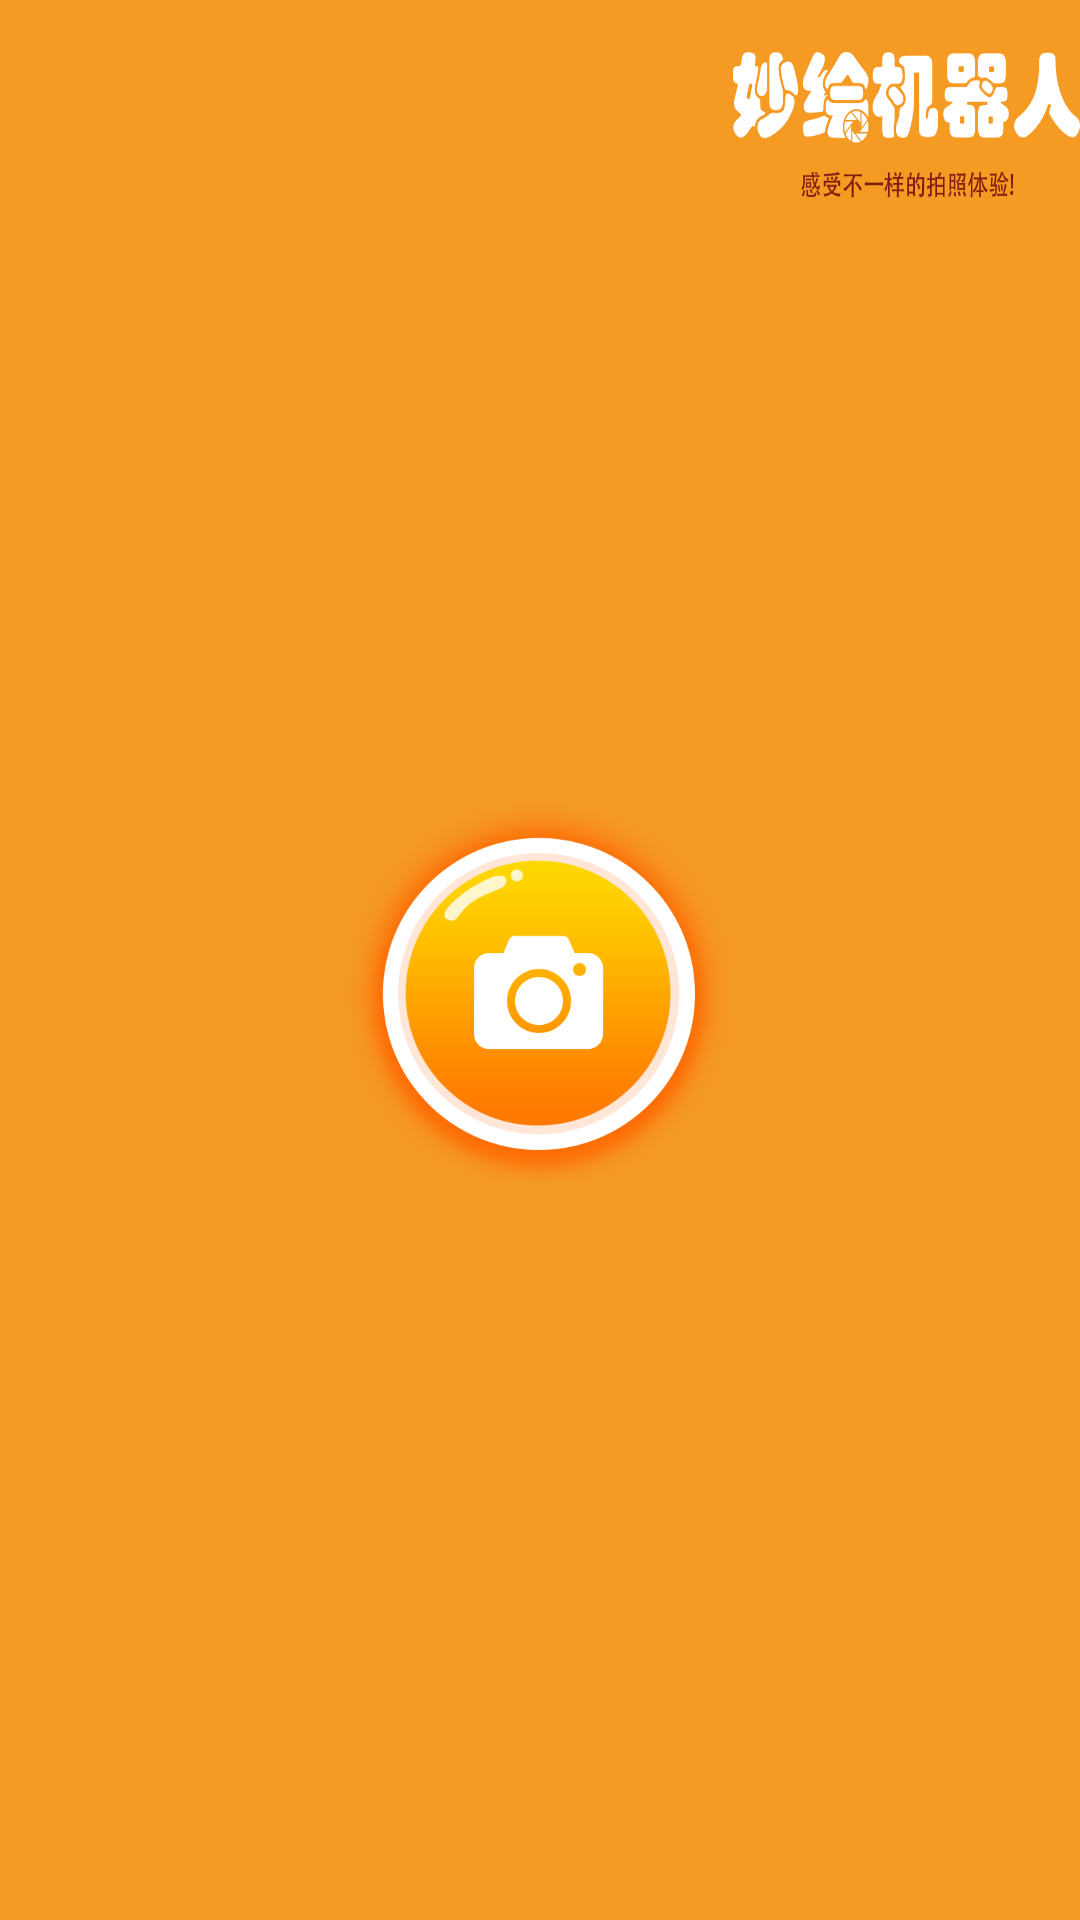

Locate icon controls on the screen. Image size 1080px×1920px, boxes as Rect(x1, y1, x2, y2).
camera: Rect(372, 828, 706, 1167)
